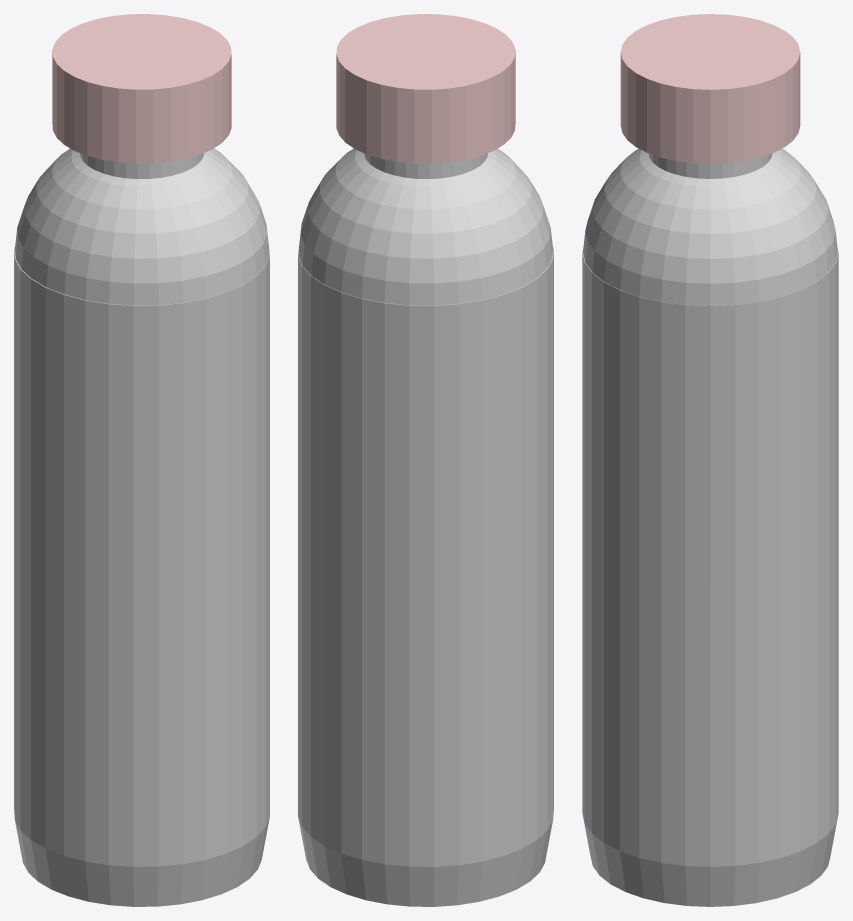
The model's file is MedicineCabinet2.fbx.
The picture shows the model from 3 angles, left to right: view 1: azimuth 30°, elevation 25°; view 2: azimuth 150°, elevation 25°; view 3: azimuth 270°, elevation 25°; orthographic projection.
Parts seen in each view (by area): view 1: 円柱.006, 球.002, 円柱.008, 円柱.007; view 2: 円柱.006, 球.002, 円柱.008, 円柱.007; view 3: 円柱.006, 球.002, 円柱.008, 円柱.007.
Boxes of the visible parts, left/top/right/bottom form: 円柱.006: left=14, top=244, right=269, bottom=906; 球.002: left=15, top=148, right=269, bottom=305; 円柱.008: left=52, top=14, right=231, bottom=163; 円柱.007: left=80, top=153, right=203, bottom=178; 円柱.006: left=298, top=244, right=553, bottom=906; 球.002: left=298, top=148, right=552, bottom=305; 円柱.008: left=336, top=14, right=515, bottom=163; 円柱.007: left=364, top=153, right=487, bottom=178; 円柱.006: left=582, top=248, right=838, bottom=906; 球.002: left=583, top=148, right=837, bottom=305; 円柱.008: left=620, top=14, right=800, bottom=163; 円柱.007: left=648, top=153, right=772, bottom=178.
Size of the model in its own units: 3.89 by 13.47 by 3.89.
